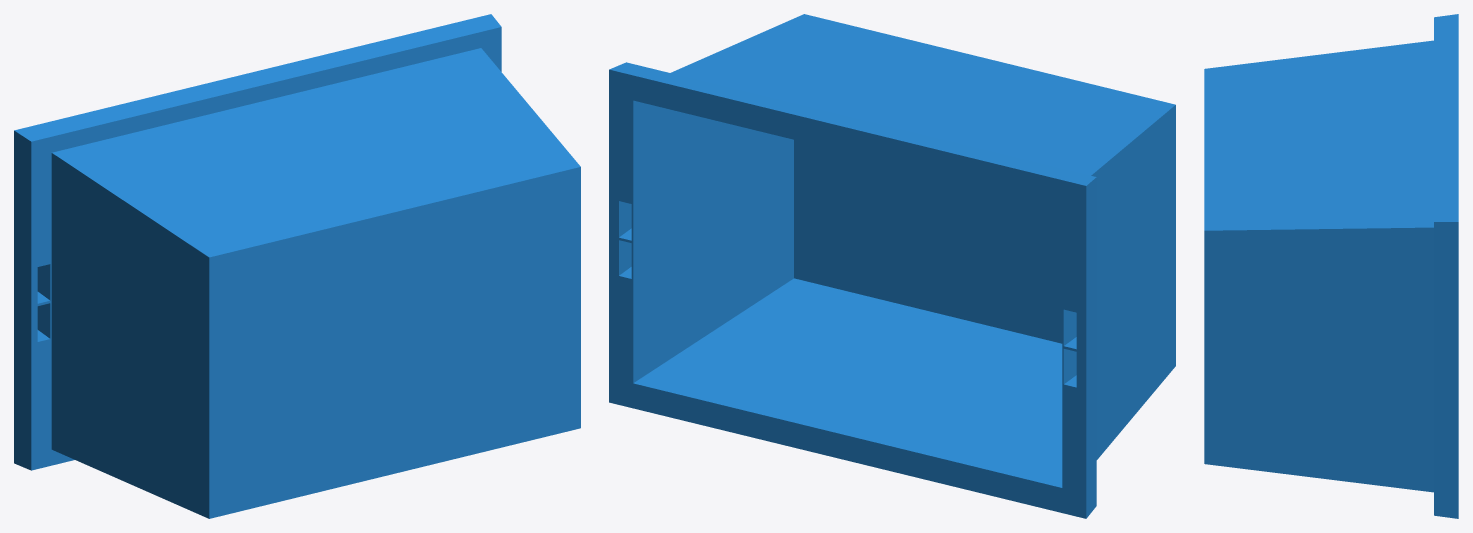
File: kuang.dae
3 views of the same model, side by side, from view 1: azimuth 30°, elevation 25°; view 2: azimuth 150°, elevation 25°; view 3: azimuth 270°, elevation 25° (orthographic). The views are drawn at different scales.
Visible parts, largest first — view 1: 美团胶框; view 2: 美团胶框; view 3: 美团胶框.
Part boxes in pixels (left/top/right/bottom): 美团胶框: left=14, top=14, right=580, bottom=518; 美团胶框: left=609, top=14, right=1175, bottom=518; 美团胶框: left=1204, top=14, right=1458, bottom=518.
Size of the model in its own units: 600 by 310 by 400.
